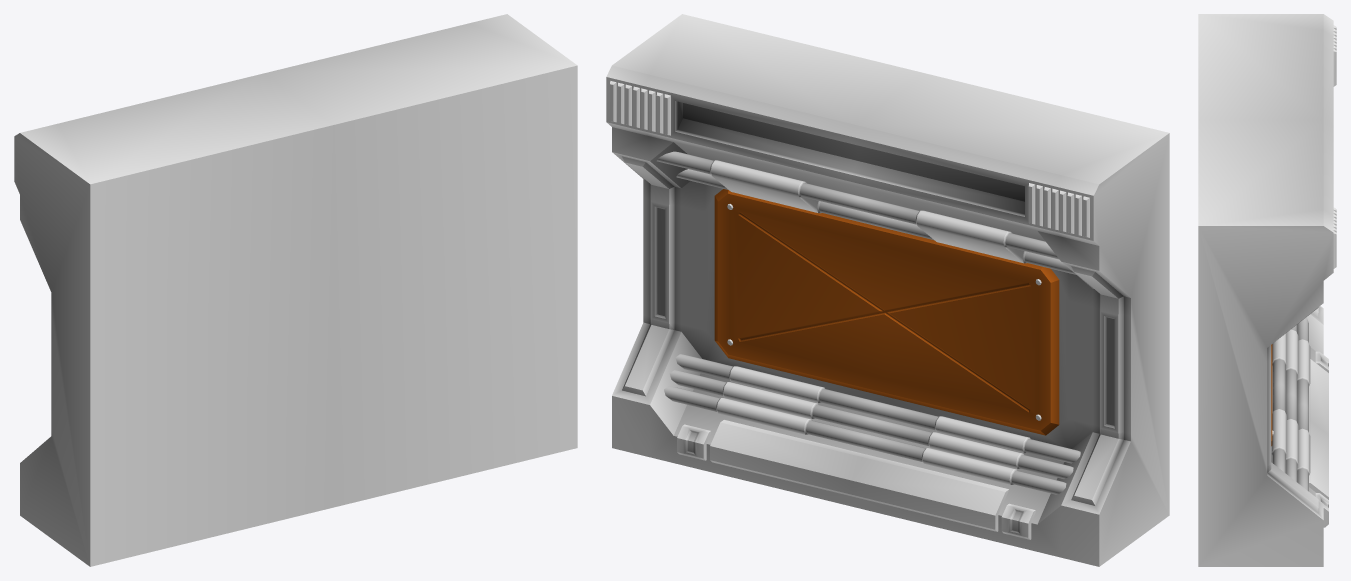
Rendered from wallDouble_B.FBX.
The picture shows the model from 3 angles, left to right: view 1: azimuth 30°, elevation 25°; view 2: azimuth 150°, elevation 25°; view 3: azimuth 270°, elevation 25°; orthographic projection. The views are drawn at different scales.
Parts seen in each view (by area): view 1: wallDouble_B; view 2: wallDouble_B; view 3: wallDouble_B.
Boxes of the visible parts, x1,y1,x2,y2 form: wallDouble_B: (14, 14, 577, 566); wallDouble_B: (606, 14, 1169, 566); wallDouble_B: (1198, 14, 1336, 566).
Size of the model in its own units: 4 by 3 by 1.1.
